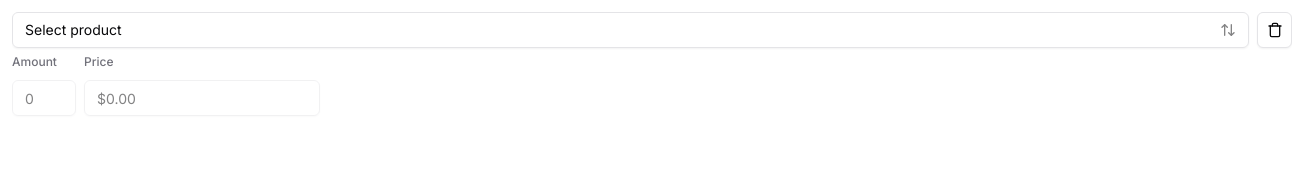
Test case: OrderProductField › limits amount to available stock
Click the dropdown. click: x=73, y=30
box: [12,12,1249,48]
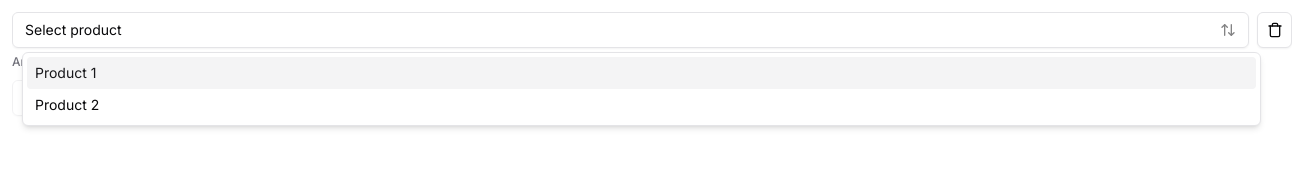
Click the option "Product 1". click: x=66, y=72
box: [27,57,1256,89]
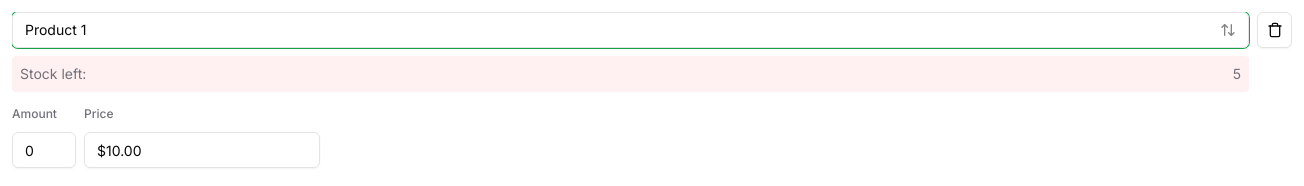
Replace the text in the number field with placeholder "Amount" with "10". click: x=44, y=150
box: [12,132,76,168]
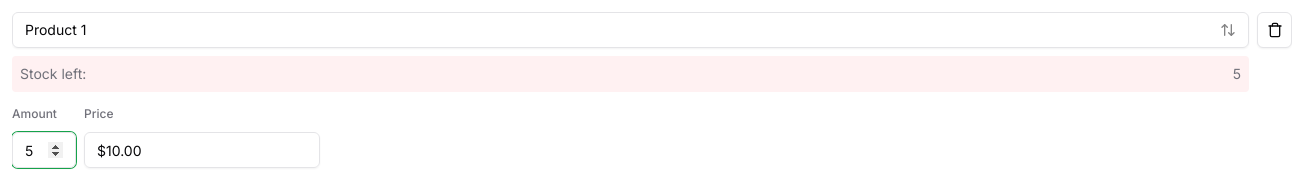
Result: the number field with placeholder "Amount" holds "5" at [12,132,76,168]
